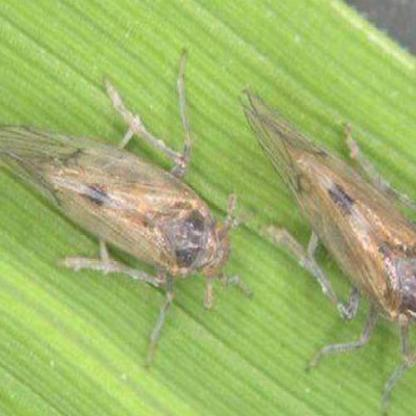brown-planthopper: (240, 88, 416, 400), (0, 117, 231, 313)
